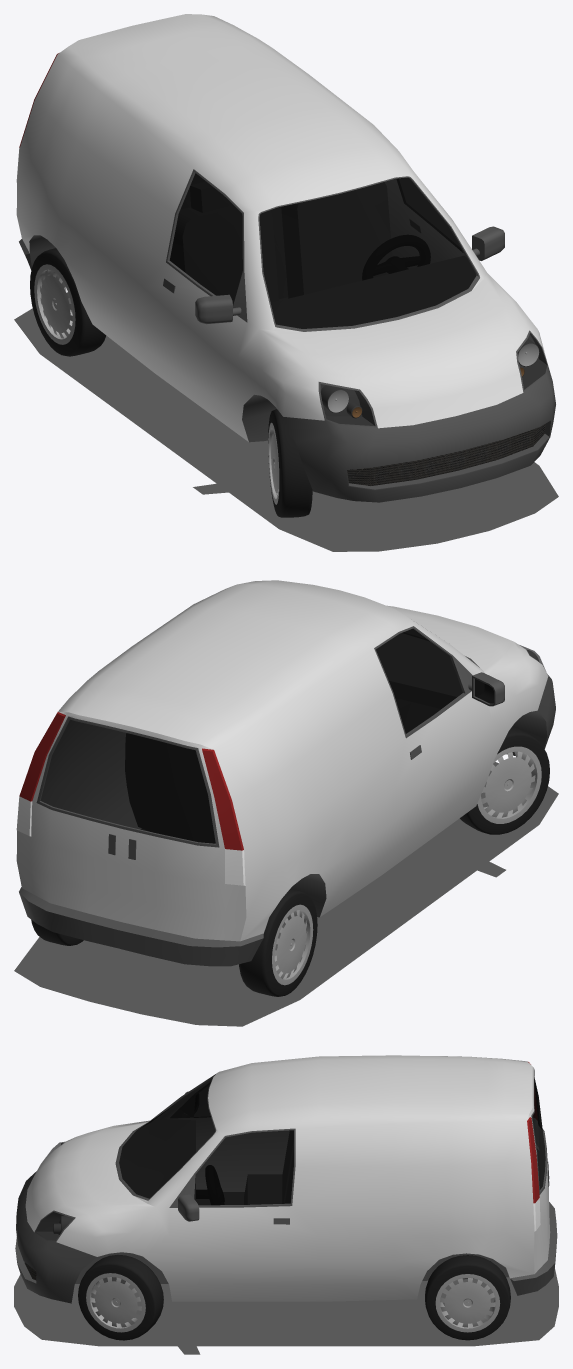
File: simple_european_compact_van.glb
3 renders of one model, top to bottom at view 1: azimuth 30°, elevation 25°; view 2: azimuth 150°, elevation 25°; view 3: azimuth 270°, elevation 25°, orthographic. The views are drawn at different scales.
Parts seen in each view (by area): view 1: CarBody, Shadow, WheelRL.002, WheelRL.003, SteeringWheel; view 2: CarBody, Shadow, WheelRL.003, WheelRL.002; view 3: CarBody, Shadow, WheelRL, WheelRL.001, SteeringWheel.
Boxes of the visible parts, x1,y1,x2,y2 form: CarBody: [16, 14, 555, 502]; Shadow: [14, 298, 558, 551]; WheelRL.002: [30, 248, 106, 356]; WheelRL.003: [268, 409, 312, 517]; SteeringWheel: [362, 235, 430, 279]; CarBody: [16, 580, 555, 966]; Shadow: [14, 762, 558, 1026]; WheelRL.003: [460, 726, 549, 834]; WheelRL.002: [239, 888, 317, 996]; CarBody: [15, 1055, 557, 1303]; Shadow: [14, 1268, 558, 1354]; WheelRL: [425, 1255, 510, 1340]; WheelRL.001: [78, 1255, 163, 1340]; SteeringWheel: [196, 1165, 224, 1204].
Bounding box in the file's own units: 3.8 × 3.29 × 7.47.
12 materials, 1 textured.
